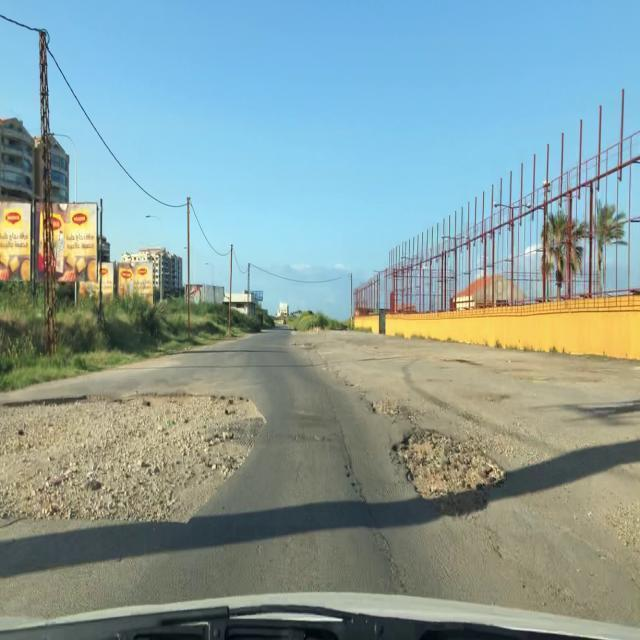pothole: (1, 379, 270, 534), (382, 420, 515, 520), (369, 400, 401, 418), (289, 341, 317, 349)
